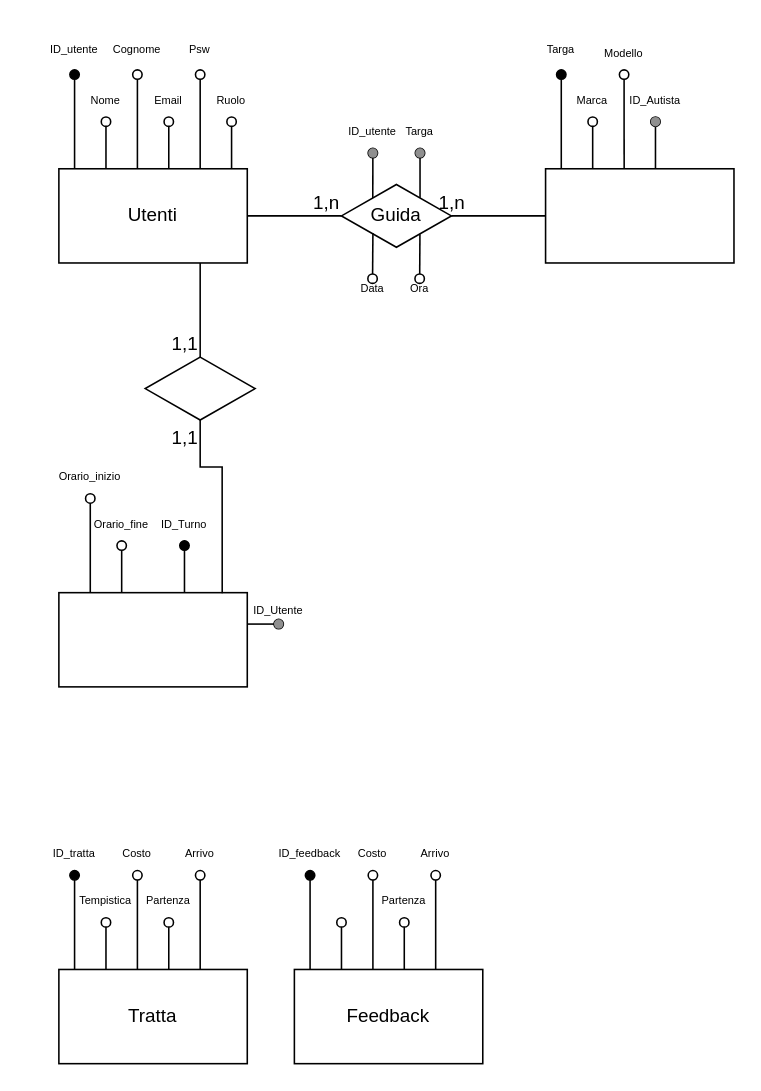
This 761x1091 diagram has some shape labels left out. The centre of each missing label's shape, as x and y in pixels:
"Avere" goes at point 199,388.
"Turni" goes at point 152,639.
"Veicoli" goes at point 639,215.
